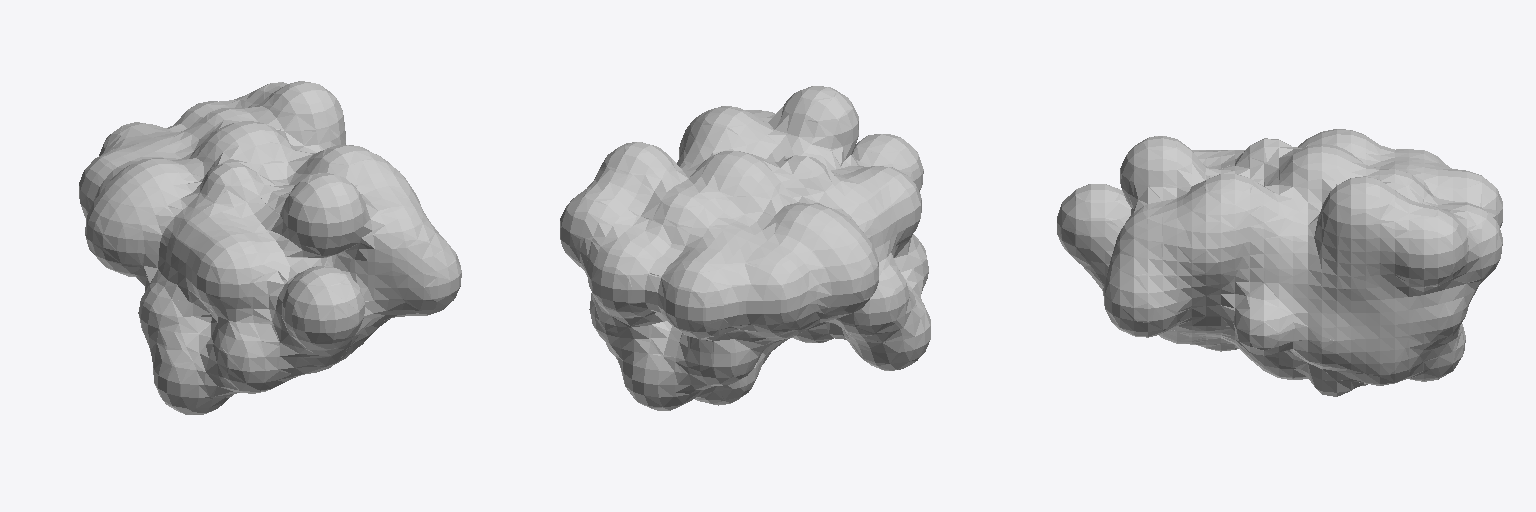
Rendered from cloud1.obj.
3 renders of one model, left to right at view 1: azimuth 30°, elevation 25°; view 2: azimuth 150°, elevation 25°; view 3: azimuth 270°, elevation 25°, orthographic.
Visible parts, largest first — view 1: Mball.071_Mesh; view 2: Mball.071_Mesh; view 3: Mball.071_Mesh.
Boxes of the visible parts, x1,y1,x2,y2 form: Mball.071_Mesh: [79, 81, 461, 414]; Mball.071_Mesh: [560, 86, 930, 410]; Mball.071_Mesh: [1057, 129, 1502, 396].
Bounding box in the file's own units: 8.63 × 7.36 × 12.33.